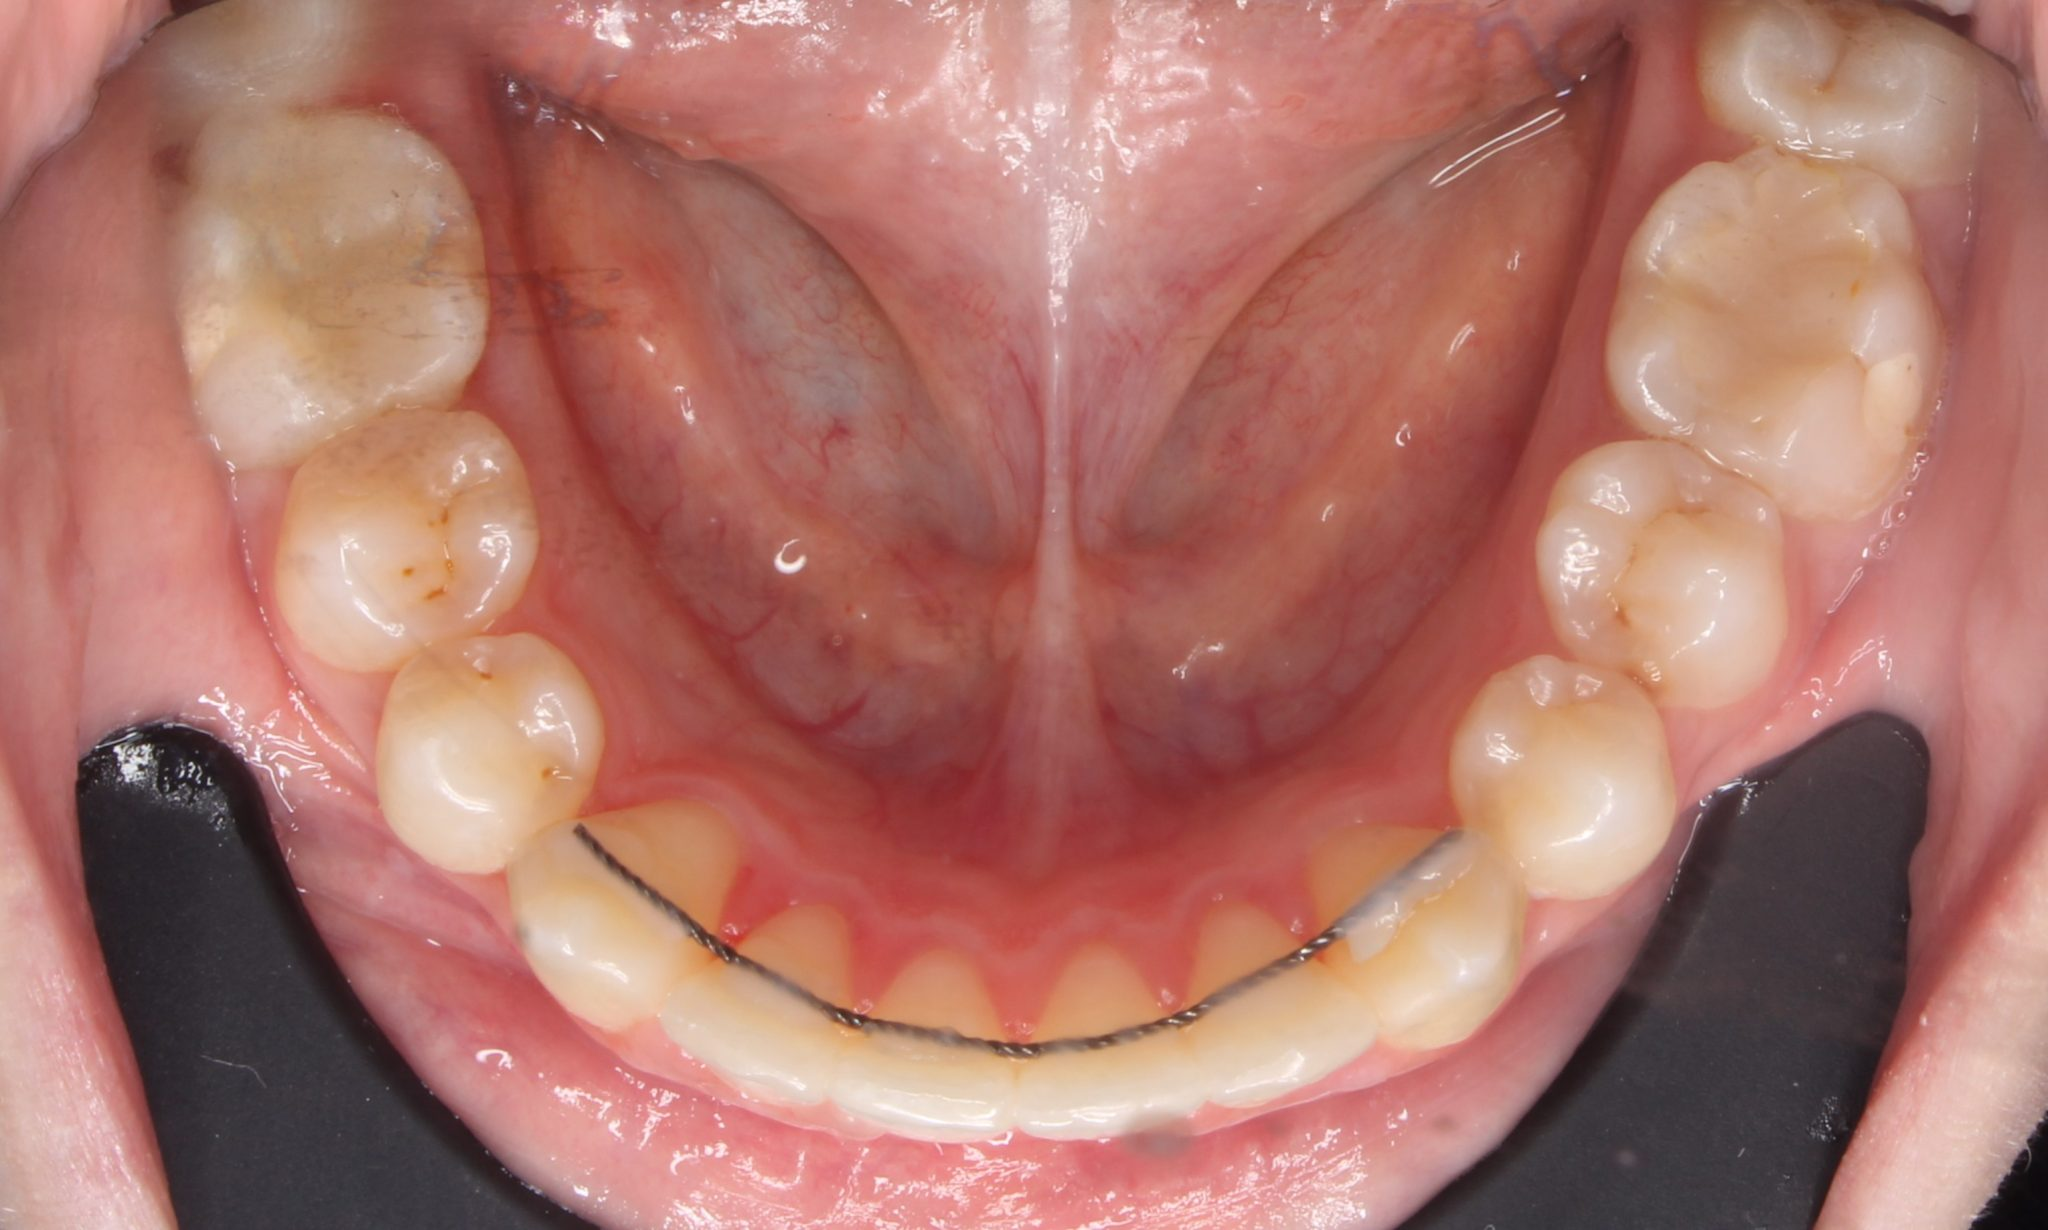LL1BC_healthy: (1453, 664, 1676, 899)
LL1M_healthy: (1609, 155, 1932, 502)
LL2BC_healthy: (1536, 446, 1793, 695)
LL2M_healthy: (1693, 4, 1973, 168)
LLCI_decay: (1031, 948, 1194, 1139)
LLC_decay: (1318, 832, 1529, 1033)
LLLI_decay: (1197, 917, 1358, 1104)
LR1BC_decay: (383, 639, 587, 845)
LR1M_decay: (189, 129, 486, 417)
LR2BC_decay: (293, 439, 538, 648)
LRCI_decay: (873, 943, 1025, 1150)
LRC_decay: (563, 801, 705, 1052)
LRLI_decay: (704, 897, 867, 1110)
